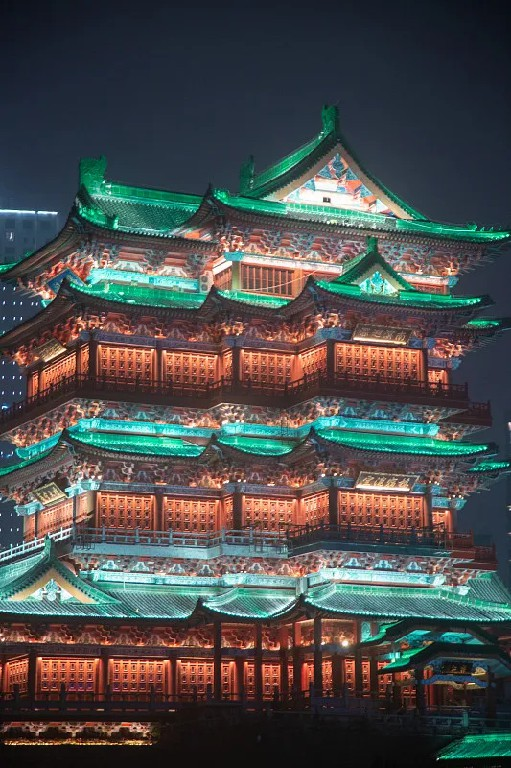Teng: (1, 104, 511, 717)
